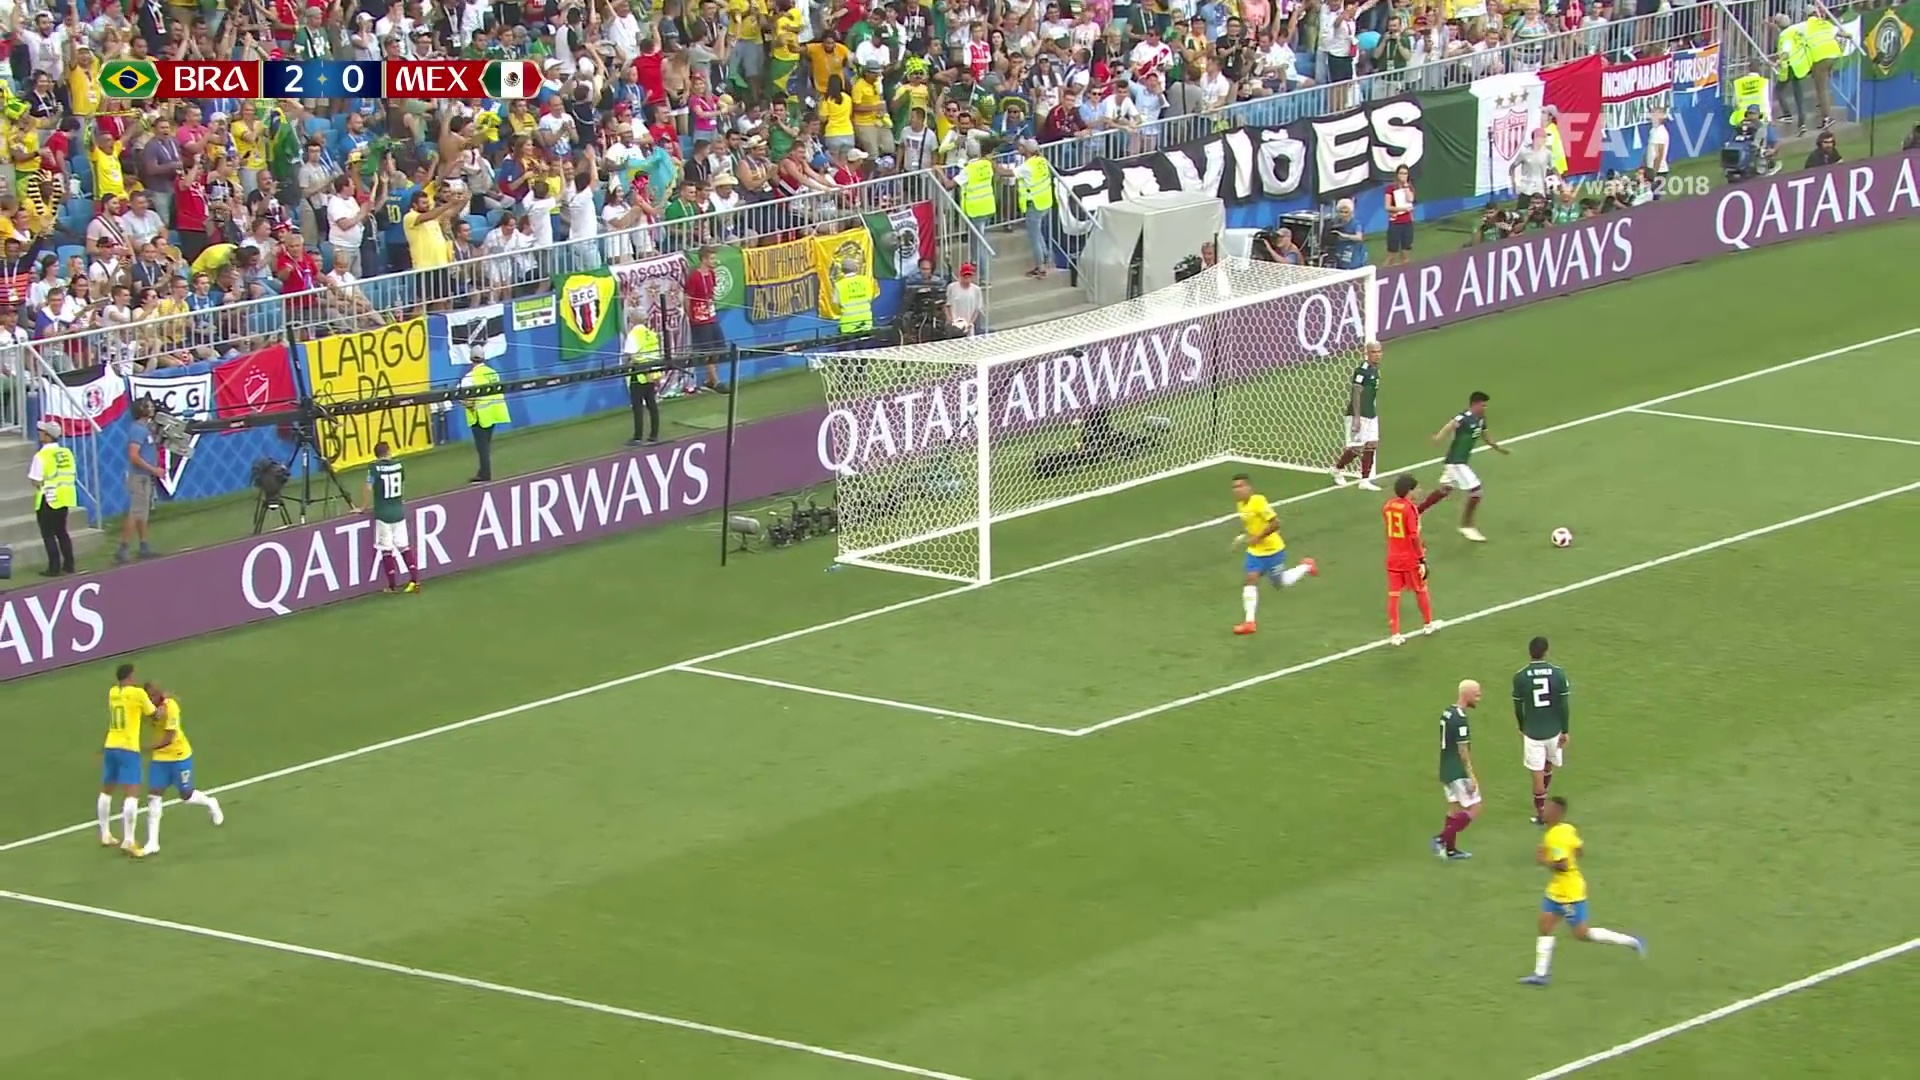ball: (1550, 528, 1570, 546)
person: (1526, 806, 1644, 992), (141, 683, 226, 857), (1229, 474, 1315, 636), (1514, 634, 1569, 826), (1419, 389, 1488, 540), (1384, 473, 1441, 643), (360, 441, 419, 592), (97, 667, 146, 845), (1437, 678, 1479, 859), (1343, 343, 1382, 492)
